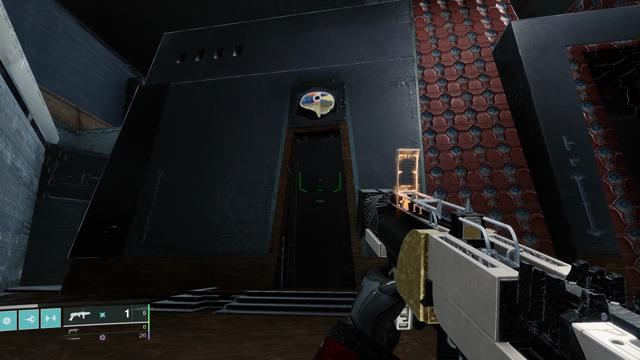brain: (296, 87, 339, 120)
